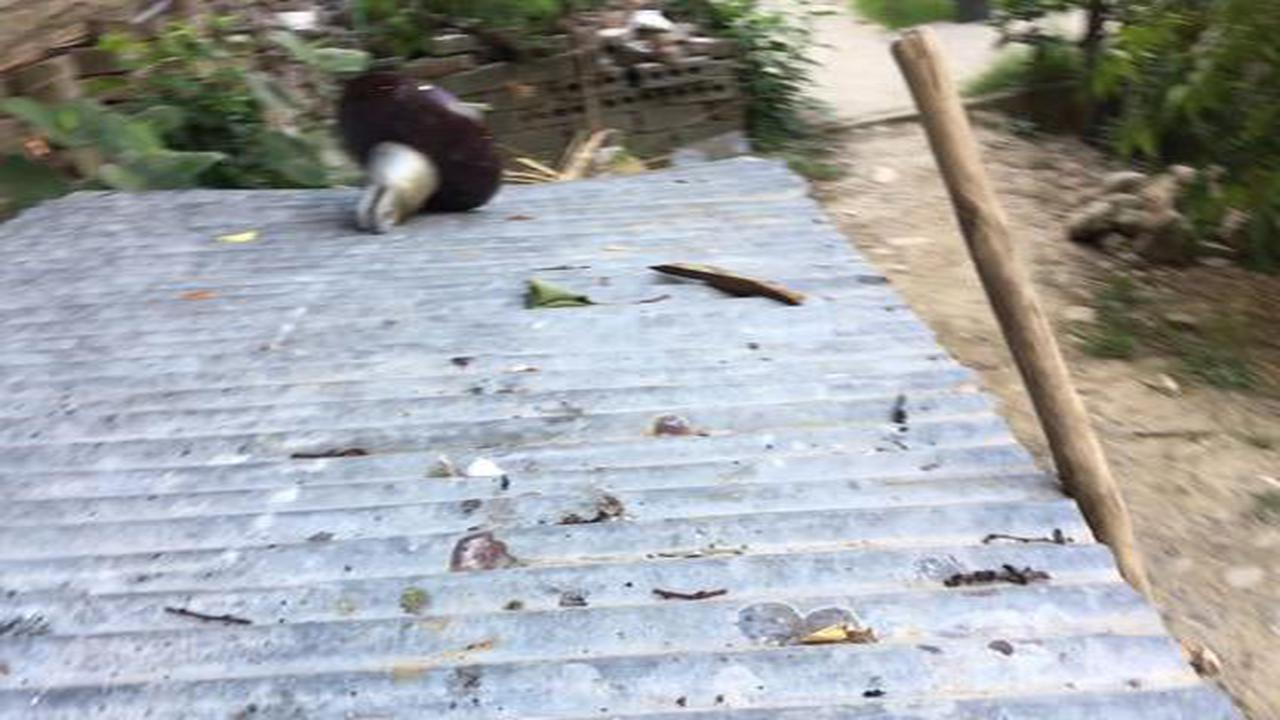insulator_disc: (330, 59, 507, 232)
